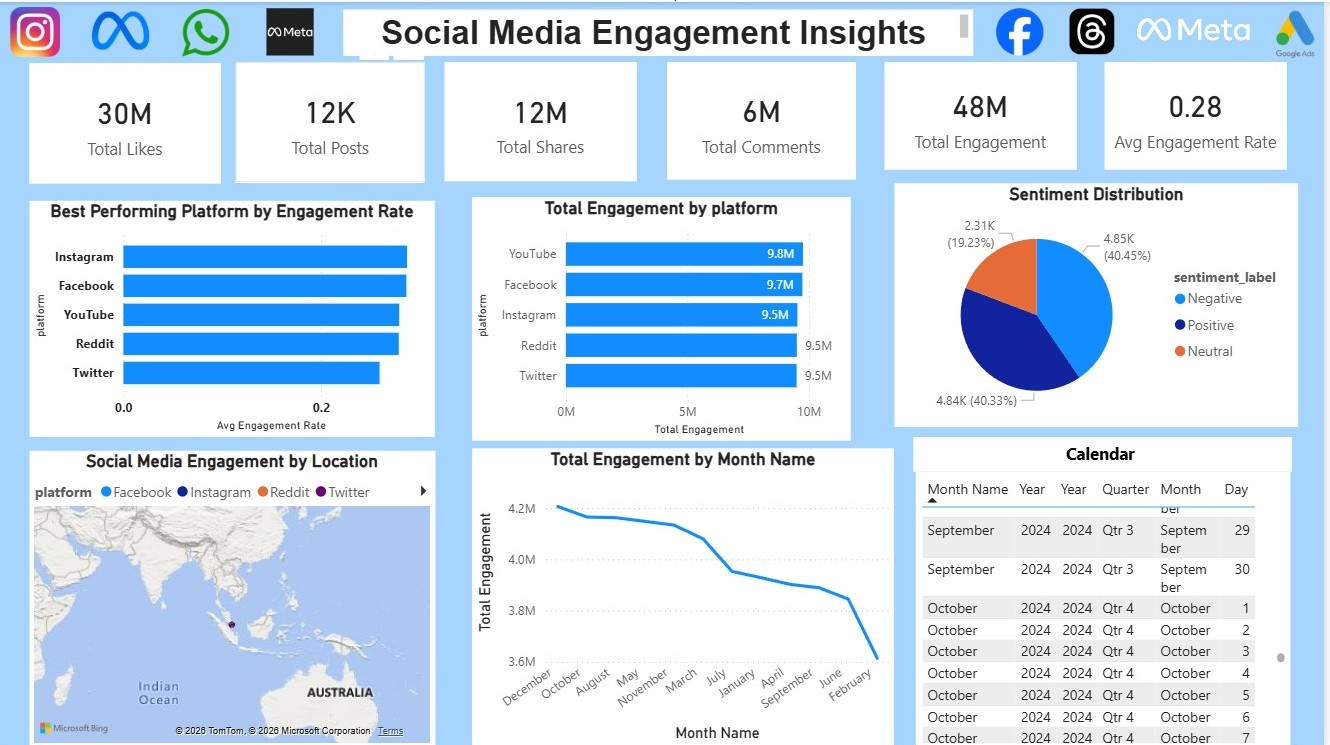

This screenshot's page, from the dashboard's own definition file:
{"tool":"powerbi","page":{"name":"Page 1","canvas":[1280,720],"ordinal":0},"visuals":[{"type":"card","fields":{"Values":["Social Media Engagement Dataset.Total Likes"]},"box":[31.4,59.1,184.6,115.8],"z":0},{"type":"card","fields":{"Values":["Social Media Engagement Dataset.Total Posts"]},"box":[230.5,57.6,182.5,116.6],"z":1000},{"type":"card","fields":{"Values":["Social Media Engagement Dataset.Total Shares"]},"box":[432.2,57.6,185.2,115.3],"z":2000},{"type":"card","fields":{"Values":["Social Media Engagement Dataset.Total Comments"]},"box":[646.3,57.6,182.5,113.9],"z":3000},{"type":"card","fields":{"Values":["Social Media Engagement Dataset.Total Engagement"]},"box":[856.3,57.6,185.2,104.3],"z":4000},{"type":"card","fields":{"Values":["Social Media Engagement Dataset.Avg Engagement Rate"]},"box":[1069,57.6,175.6,104.3],"z":5000},{"type":"clusteredBarChart","fields":{"Category":["Social Media Engagement Dataset.platform"],"Y":["Social Media Engagement Dataset.Total Engagement"]},"box":[458.4,188.2,365.6,235.3],"z":6000},{"type":"pieChart","title":" Sentiment Distribution","fields":{"Category":["Social Media Engagement Dataset.sentiment_label"],"Y":["CountNonNull(Social Media Engagement Dataset.post_id)"]},"box":[866.2,174.9,389.7,235.3],"z":7000},{"type":"lineChart","fields":{"Category":["Social Media Engagement Dataset.Month Name"],"Y":["Social Media Engagement Dataset.Total Engagement"]},"box":[458.3,430.9,407.5,288.2],"z":8000},{"type":"clusteredBarChart","title":"Best Performing Platform by Engagement Rate","fields":{"Category":["Social Media Engagement Dataset.platform"],"Y":["Social Media Engagement Dataset.Avg Engagement Rate"]},"box":[31.4,191.8,390.9,228],"z":9000},{"type":"tableEx","fields":{"Values":["Social Media Engagement Dataset.Month Name","Social Media Engagement Dataset.Year","Social Media Engagement Dataset.timestamp.Variation.Date Hierarchy.Year","Social Media Engagement Dataset.timestamp.Variation.Date Hierarchy.Quarter","Social Media Engagement Dataset.timestamp.Variation.Date Hierarchy.Month","Social Media Engagement Dataset.timestamp.Variation.Date Hierarchy.Day"]},"box":[886.7,453.6,361.9,266.6],"z":10000},{"type":"map","title":"Social Media Engagement by Location","fields":{"Category":["Social Media Engagement Dataset.location"],"Series":["Social Media Engagement Dataset.platform"]},"box":[31.4,433.1,390.9,287.1],"z":11000},{"type":"textbox","box":[334.2,7.2,608,44.6],"z":12000},{"type":"textbox","box":[884.3,419.8,365.6,33.8],"z":13000},{"type":"image","box":[91.7,1.2,55.5,53.1],"z":13002},{"type":"image","box":[9.7,4.8,54.3,48.3],"z":13003},{"type":"image","box":[173.7,6,55.5,47.1],"z":13004},{"type":"image","box":[1100.3,1.2,108.6,50.7],"z":13005},{"type":"image","box":[960.3,6,53.1,45.8],"z":13006},{"type":"image","box":[1225.7,8.4,54.3,45.8],"z":13007},{"type":"image","box":[235.3,6,95.3,45.8],"z":13008},{"type":"image","box":[1035.1,0,43.4,56.7],"z":13009}]}

Visuals, with their boxes in screenshot pixels (x1, y1, x2, y2), scaled from the page's 1280x720 canvas onto the 1330x745 screenshot:
card - Social Media Engagement Dataset.Total Likes: pyautogui.locateOnScreen(33, 61, 224, 181)
card - Social Media Engagement Dataset.Total Posts: pyautogui.locateOnScreen(240, 60, 429, 180)
card - Social Media Engagement Dataset.Total Shares: pyautogui.locateOnScreen(449, 60, 642, 179)
card - Social Media Engagement Dataset.Total Comments: pyautogui.locateOnScreen(672, 60, 861, 177)
card - Social Media Engagement Dataset.Total Engagement: pyautogui.locateOnScreen(890, 60, 1082, 168)
card - Social Media Engagement Dataset.Avg Engagement Rate: pyautogui.locateOnScreen(1111, 60, 1293, 168)
clusteredBarChart - Social Media Engagement Dataset.platform x Social Media Engagement Dataset.Total Engagement: pyautogui.locateOnScreen(476, 195, 856, 438)
" Sentiment Distribution" pieChart: pyautogui.locateOnScreen(900, 181, 1305, 424)
lineChart - Social Media Engagement Dataset.Month Name x Social Media Engagement Dataset.Total Engagement: pyautogui.locateOnScreen(476, 446, 900, 744)
"Best Performing Platform by Engagement Rate" clusteredBarChart: pyautogui.locateOnScreen(33, 198, 439, 434)
tableEx - Social Media Engagement Dataset.Month Name x Social Media Engagement Dataset.Year: pyautogui.locateOnScreen(921, 469, 1297, 744)
"Social Media Engagement by Location" map: pyautogui.locateOnScreen(33, 448, 439, 744)
textbox: pyautogui.locateOnScreen(347, 7, 979, 54)
textbox: pyautogui.locateOnScreen(919, 434, 1299, 469)
image: pyautogui.locateOnScreen(95, 1, 153, 56)
image: pyautogui.locateOnScreen(10, 5, 66, 55)
image: pyautogui.locateOnScreen(180, 6, 238, 55)
image: pyautogui.locateOnScreen(1143, 1, 1256, 54)
image: pyautogui.locateOnScreen(998, 6, 1053, 54)
image: pyautogui.locateOnScreen(1274, 9, 1329, 56)
image: pyautogui.locateOnScreen(244, 6, 344, 54)
image: pyautogui.locateOnScreen(1076, 0, 1121, 59)
